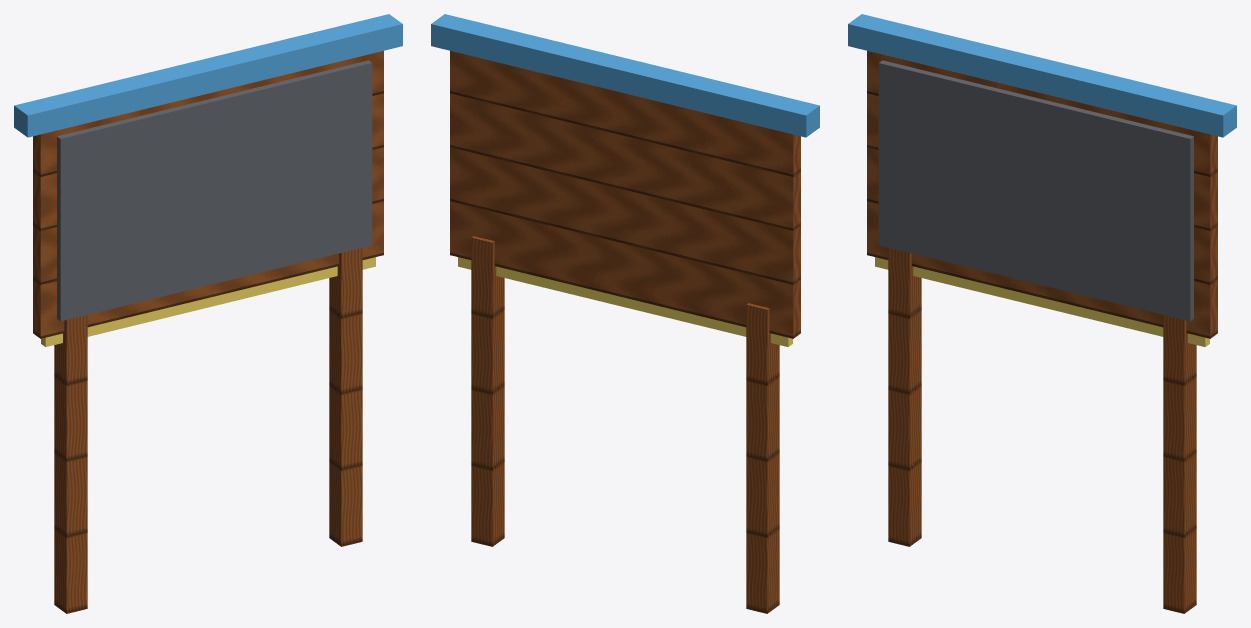
Rendered from dog-agility-and-training-field-club-noticeboard-23490d32__35617.glb.
The picture shows the model from 3 angles, left to right: view 1: azimuth 30°, elevation 25°; view 2: azimuth 150°, elevation 25°; view 3: azimuth 330°, elevation 25°; orthographic projection.
Visible parts, largest first — view 1: club-noticeboard-charcoal, club-noticeboard-timber, club-noticeboard-azure, club-noticeboard-sunflower; view 2: club-noticeboard-timber, club-noticeboard-azure, club-noticeboard-sunflower; view 3: club-noticeboard-charcoal, club-noticeboard-timber, club-noticeboard-azure, club-noticeboard-sunflower.
Part boxes in pixels (x1,y1,x2,y2): club-noticeboard-charcoal: (57,60,372,321); club-noticeboard-timber: (33,51,383,613); club-noticeboard-azure: (14,14,402,137); club-noticeboard-sunflower: (41,257,375,346); club-noticeboard-timber: (450,51,800,613); club-noticeboard-azure: (431,14,819,137); club-noticeboard-sunflower: (458,257,792,346); club-noticeboard-charcoal: (878,60,1193,321); club-noticeboard-timber: (867,51,1217,613); club-noticeboard-azure: (848,14,1236,137); club-noticeboard-sunflower: (875,257,1209,346).
Bounding box in the file's own units: 1.42 × 1.84 × 0.097.
Materials: 5 (1 with a texture image).
